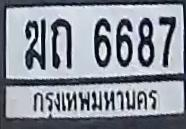6: (94, 17, 111, 68), (116, 18, 132, 66)
7: (158, 16, 176, 67)
8: (137, 17, 154, 66)
A06: (24, 18, 46, 70)
A22: (50, 18, 72, 69)
BKK: (30, 85, 163, 118)
